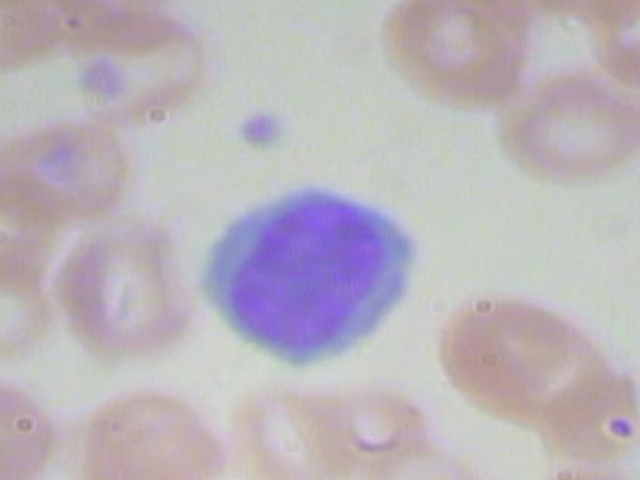Platelets: (229, 106, 296, 156)
WBC: (175, 179, 425, 378)
